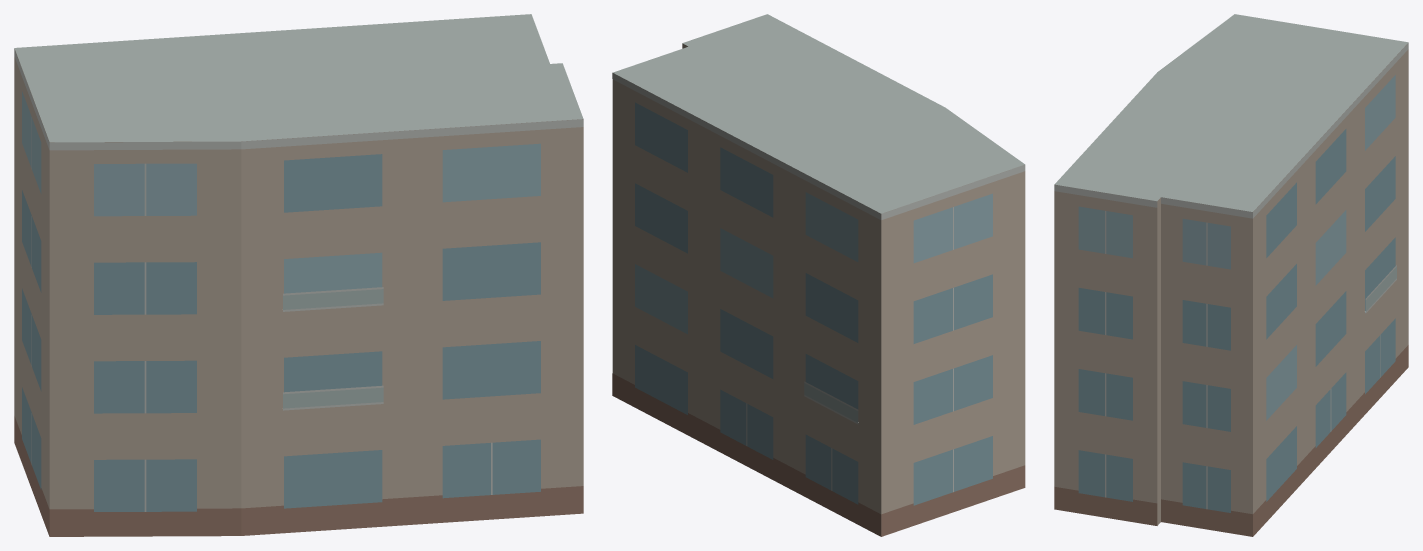
The model's file is survey-upis-33004563.glb.
The picture shows the model from 3 angles, left to right: view 1: azimuth 30°, elevation 25°; view 2: azimuth 150°, elevation 25°; view 3: azimuth 270°, elevation 25°; orthographic projection. The views are drawn at different scales.
Parts seen in each view (by area): view 1: survey-upis-33004563.tmp; view 2: survey-upis-33004563.tmp; view 3: survey-upis-33004563.tmp.
Boxes of the visible parts, x1,y1,x2,y2 form: survey-upis-33004563.tmp: (14, 14, 583, 536); survey-upis-33004563.tmp: (612, 14, 1025, 536); survey-upis-33004563.tmp: (1054, 14, 1408, 536).
Bounding box in the file's own units: 15.77 × 12.05 × 11.92.
